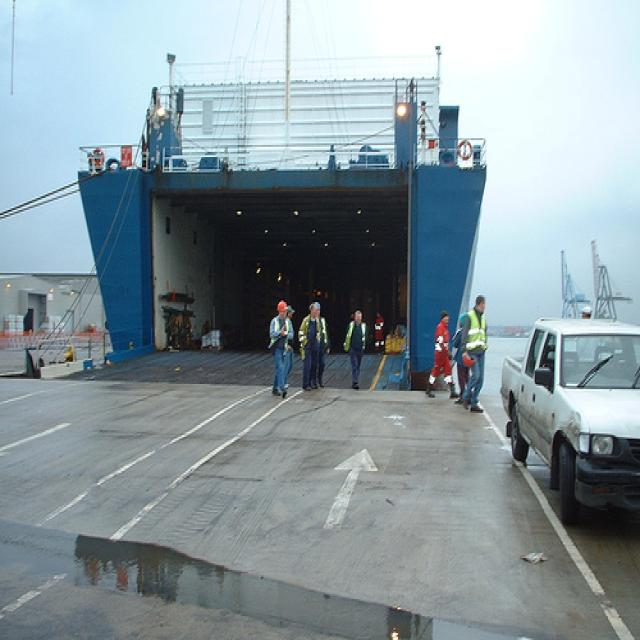light_vehicle: (501, 309, 638, 534)
